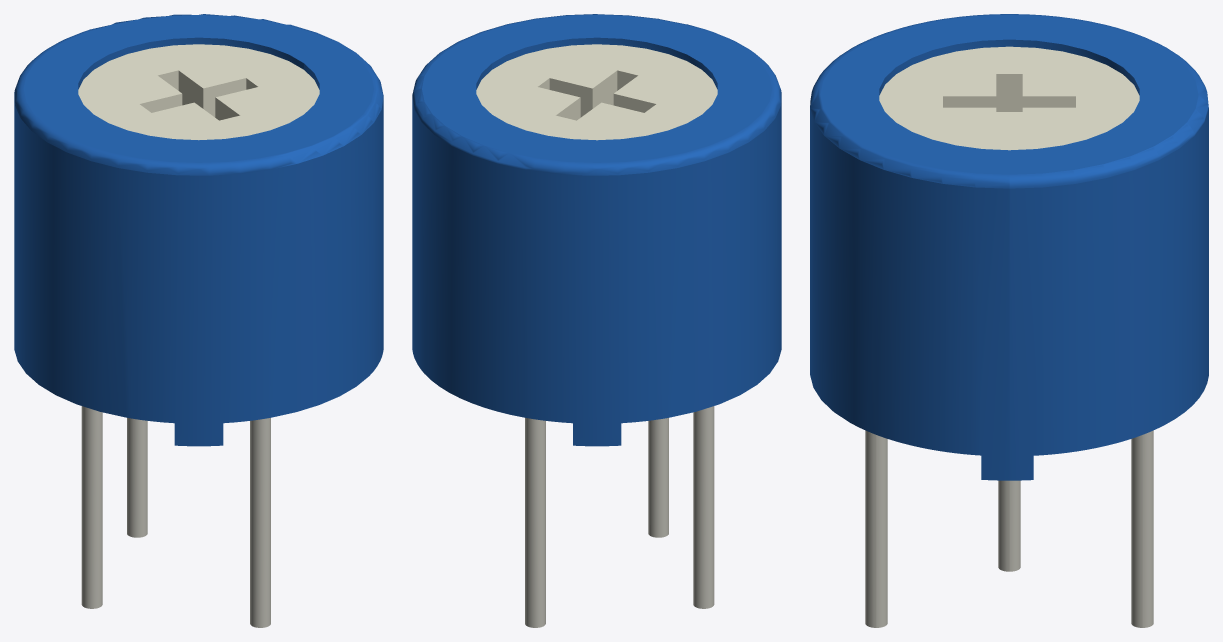
Rendered from kc-potentiometer_bourns_3339p_vertical.glb.
3 renders of one model, left to right at view 1: azimuth 30°, elevation 25°; view 2: azimuth 150°, elevation 25°; view 3: azimuth 270°, elevation 25°, orthographic. The views are drawn at different scales.
Visible parts, largest first — view 1: 0_0.16666666666666666_0.5_0, 0.75_0.75_0.6666666666666666_0, 0.6666666666666666_0.6666666666666666_0.5833333333333334_0.8; view 2: 0_0.16666666666666666_0.5_0, 0.75_0.75_0.6666666666666666_0, 0.6666666666666666_0.6666666666666666_0.5833333333333334_0.8; view 3: 0_0.16666666666666666_0.5_0, 0.75_0.75_0.6666666666666666_0, 0.6666666666666666_0.6666666666666666_0.5833333333333334_0.8.
Part boxes in pixels (x1=…): 0_0.16666666666666666_0.5_0: x1=14, y1=14, x2=383, y2=446; 0.75_0.75_0.6666666666666666_0: x1=78, y1=44, x2=319, y2=140; 0.6666666666666666_0.6666666666666666_0.5833333333333334_0.8: x1=81, y1=406, x2=270, y2=627; 0_0.16666666666666666_0.5_0: x1=412, y1=14, x2=781, y2=446; 0.75_0.75_0.6666666666666666_0: x1=476, y1=44, x2=717, y2=140; 0.6666666666666666_0.6666666666666666_0.5833333333333334_0.8: x1=525, y1=406, x2=714, y2=627; 0_0.16666666666666666_0.5_0: x1=810, y1=14, x2=1208, y2=480; 0.75_0.75_0.6666666666666666_0: x1=879, y1=46, x2=1139, y2=150; 0.6666666666666666_0.6666666666666666_0.5833333333333334_0.8: x1=865, y1=430, x2=1153, y2=627.
Size of the model in its own units: 0.762 by 1.11 by 0.7615.
